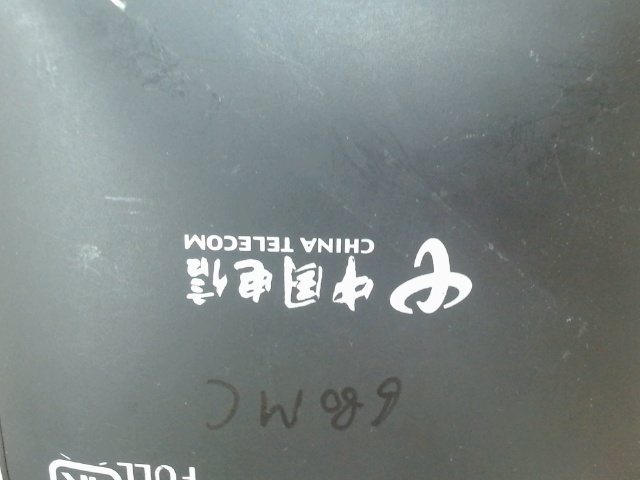AB_ChinaTelecom: (159, 208, 488, 323)
